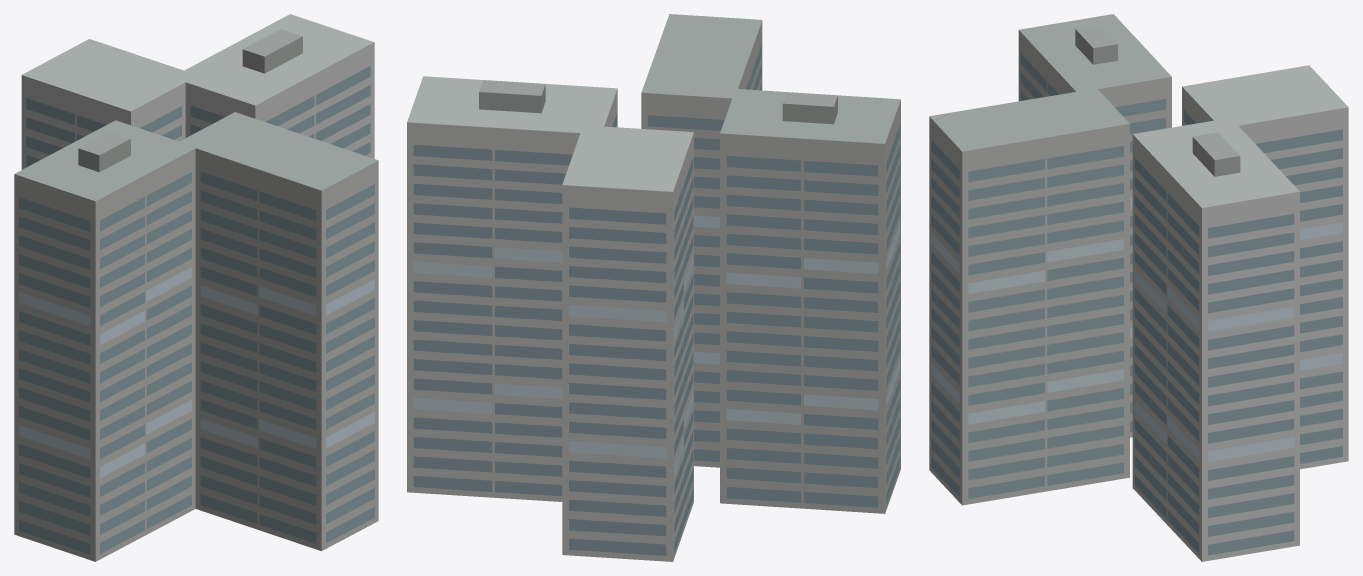
Rendered from apt-a13185501.glb.
The picture shows the model from 3 angles, left to right: view 1: azimuth 30°, elevation 25°; view 2: azimuth 150°, elevation 25°; view 3: azimuth 270°, elevation 25°; orthographic projection. The views are drawn at different scales.
Parts seen in each view (by area): view 1: apt-a13185501; view 2: apt-a13185501; view 3: apt-a13185501.
Part boxes in pixels (x1,y1,x2,y2): apt-a13185501: (14,14,378,561); apt-a13185501: (407,14,900,561); apt-a13185501: (929,14,1348,561).
Bounding box in the file's own units: 59.53 × 53 × 54.37.
